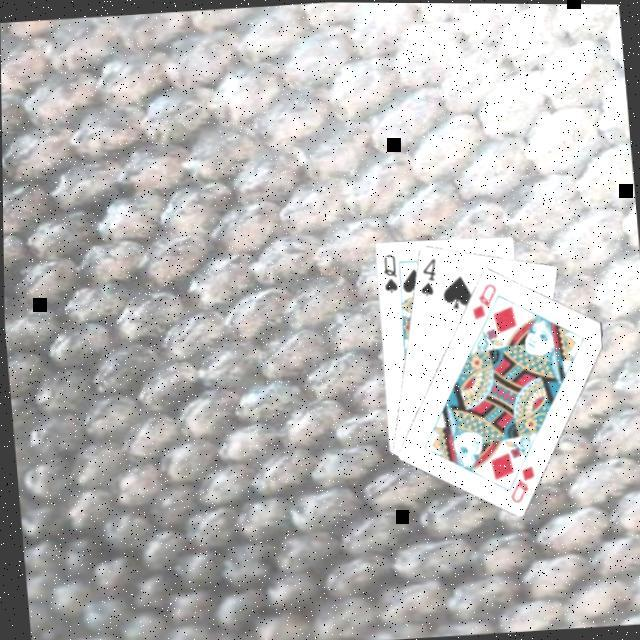4S: (414, 251, 442, 296)
QD: (504, 458, 540, 503), (467, 276, 502, 320)
QS: (378, 247, 402, 292)
